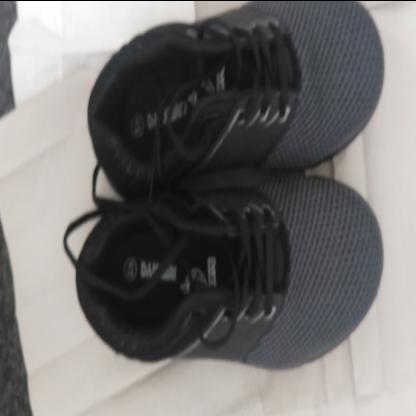safety-shoe: (52, 1, 392, 370)
